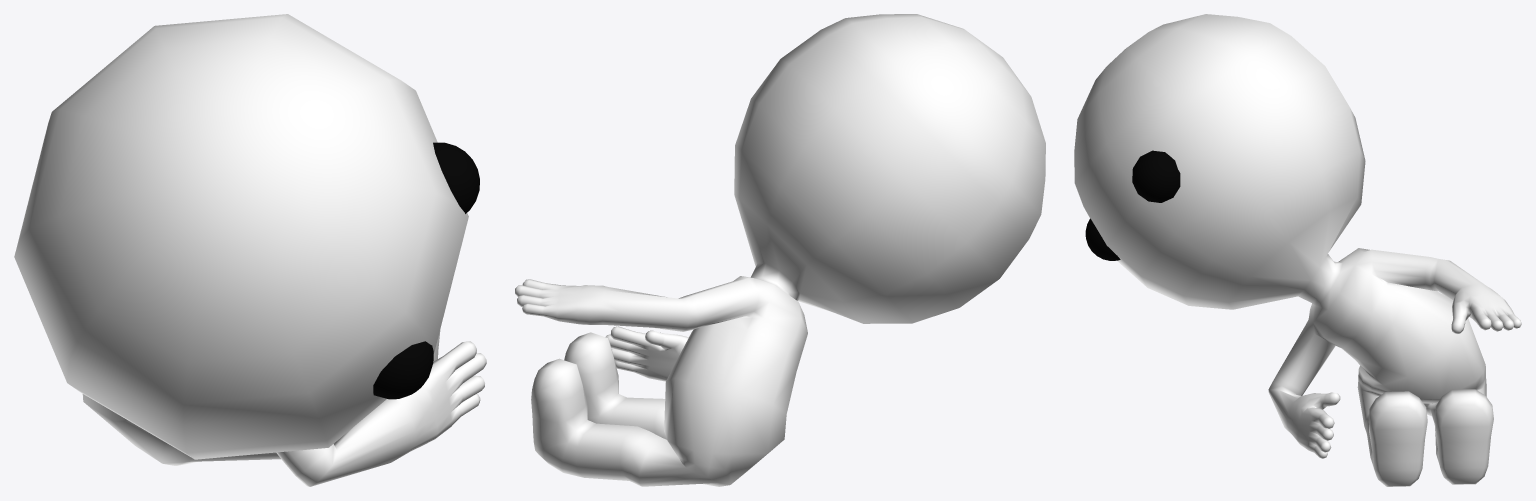
Rendered from Character.glb.
3 renders of one model, left to right at view 1: azimuth 30°, elevation 25°; view 2: azimuth 150°, elevation 25°; view 3: azimuth 270°, elevation 25°, orthographic. The views are drawn at different scales.
Parts seen in each view (by area): view 1: Character; view 2: Character; view 3: Character.
Part boxes in pixels (box(x1,y1,x2,y2)): Character: box(14, 14, 486, 486); Character: box(515, 14, 1045, 486); Character: box(1074, 14, 1521, 486).
Bounding box in the file's own units: 1.61 × 1.67 × 1.85.
1 material, 1 textured.
